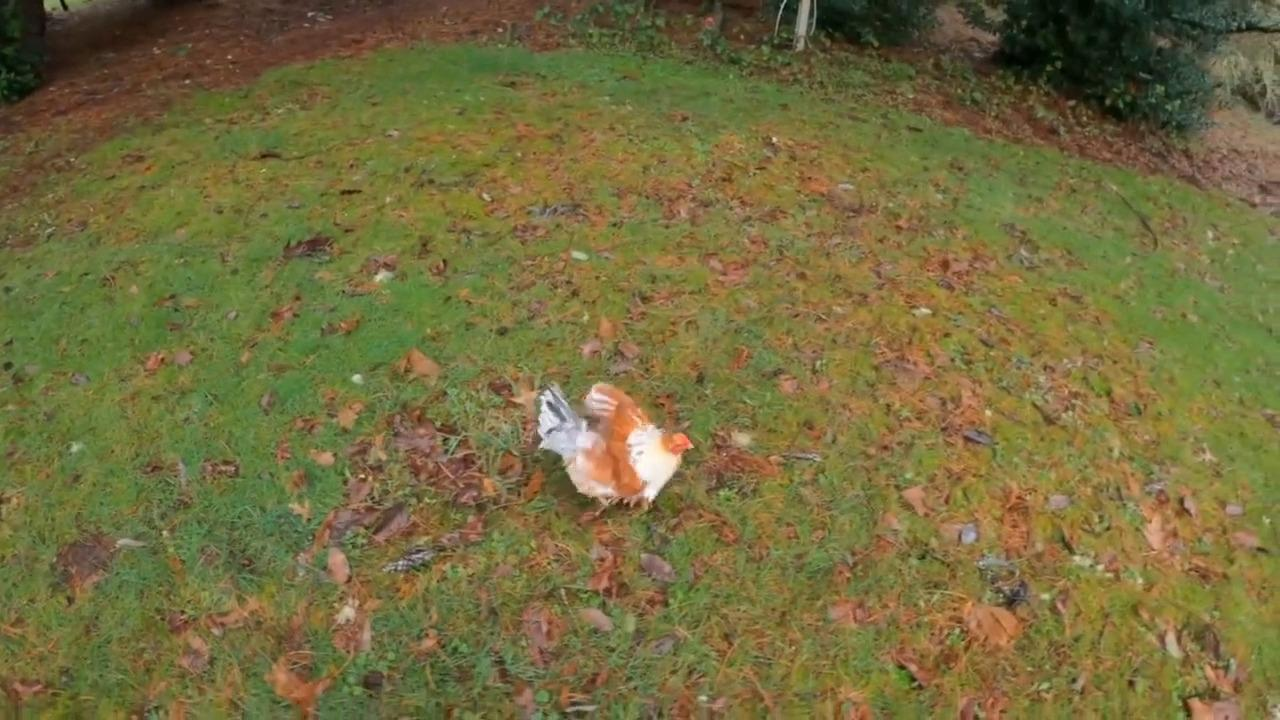Normal: (510, 352, 722, 524)
